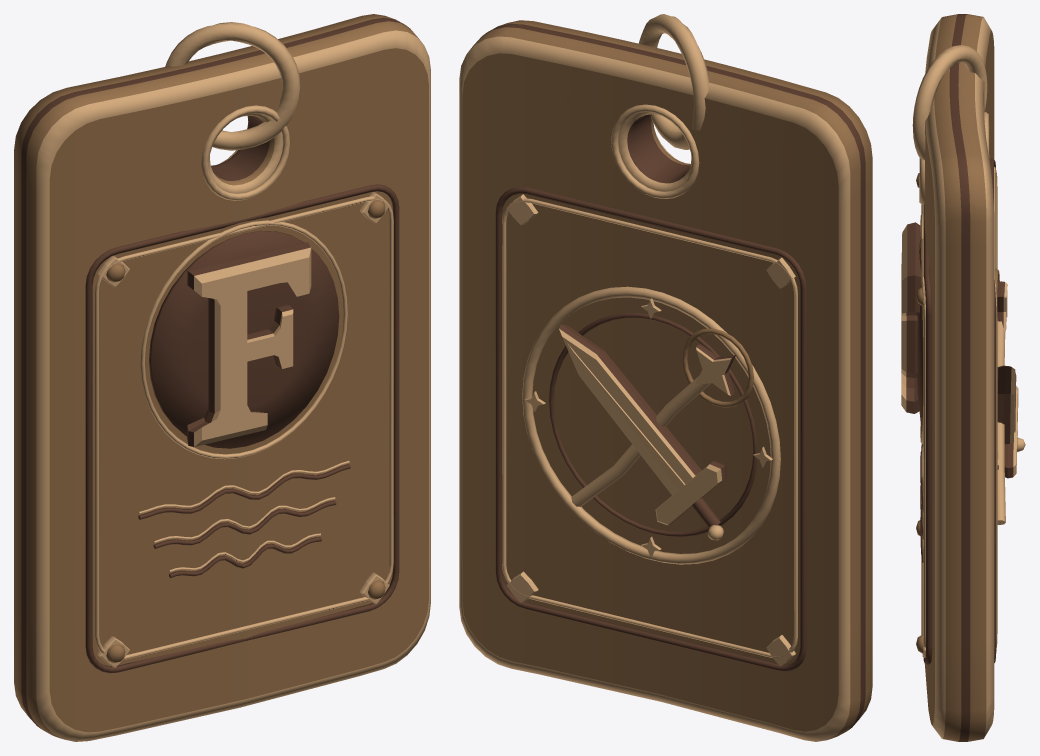
Rendered from guild_card_f.glb.
The picture shows the model from 3 angles, left to right: view 1: azimuth 30°, elevation 25°; view 2: azimuth 150°, elevation 25°; view 3: azimuth 270°, elevation 25°; orthographic projection. The views are drawn at different scales.
Parts seen in each view (by area): view 1: Guild card F; view 2: Guild card F; view 3: Guild card F.
Part boxes in pixels (<box>): Guild card F: <box>14,14,430,741</box>; Guild card F: <box>459,14,872,741</box>; Guild card F: <box>901,14,1025,741</box>.
Bounding box in the file's own units: 0.6118 × 1 × 0.1817.
